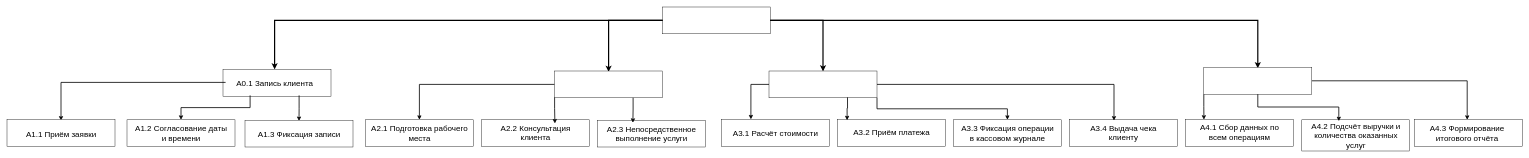
Image size: 1529x158. Some labels were removed from this diagram. The shapes that lost their labels are listed below. From the top down, each one's box as (x1, y1, x2, y2) in pixels, then its label:
(662, 7, 771, 34): Парихмахерская A0
(554, 71, 663, 98): A0.2 Выполнение услуги
(769, 71, 877, 98): A0.3 Оплата услуги
(1203, 67, 1312, 94): A0.4 Формирование отчётности
